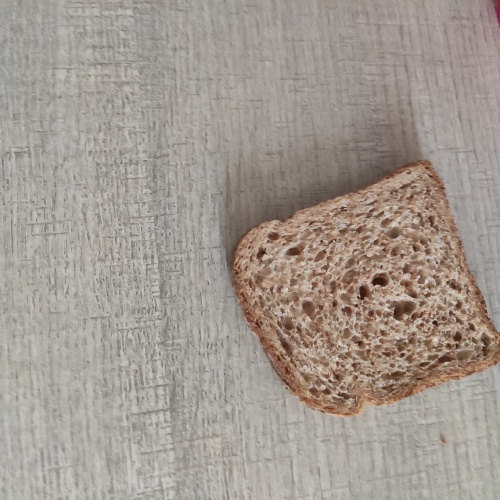pane: (230, 155, 493, 421)
